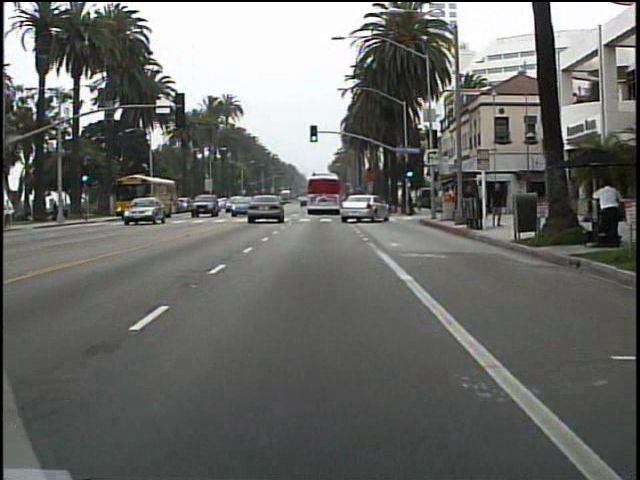person: (591, 174, 616, 249), (489, 179, 508, 231), (462, 180, 481, 225), (443, 183, 457, 222)
